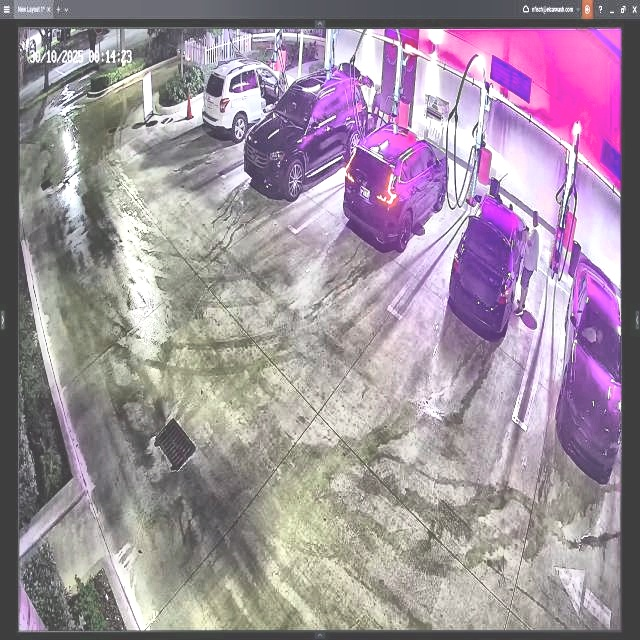Car: (245, 69, 368, 191), (346, 124, 448, 251), (449, 199, 528, 340)
